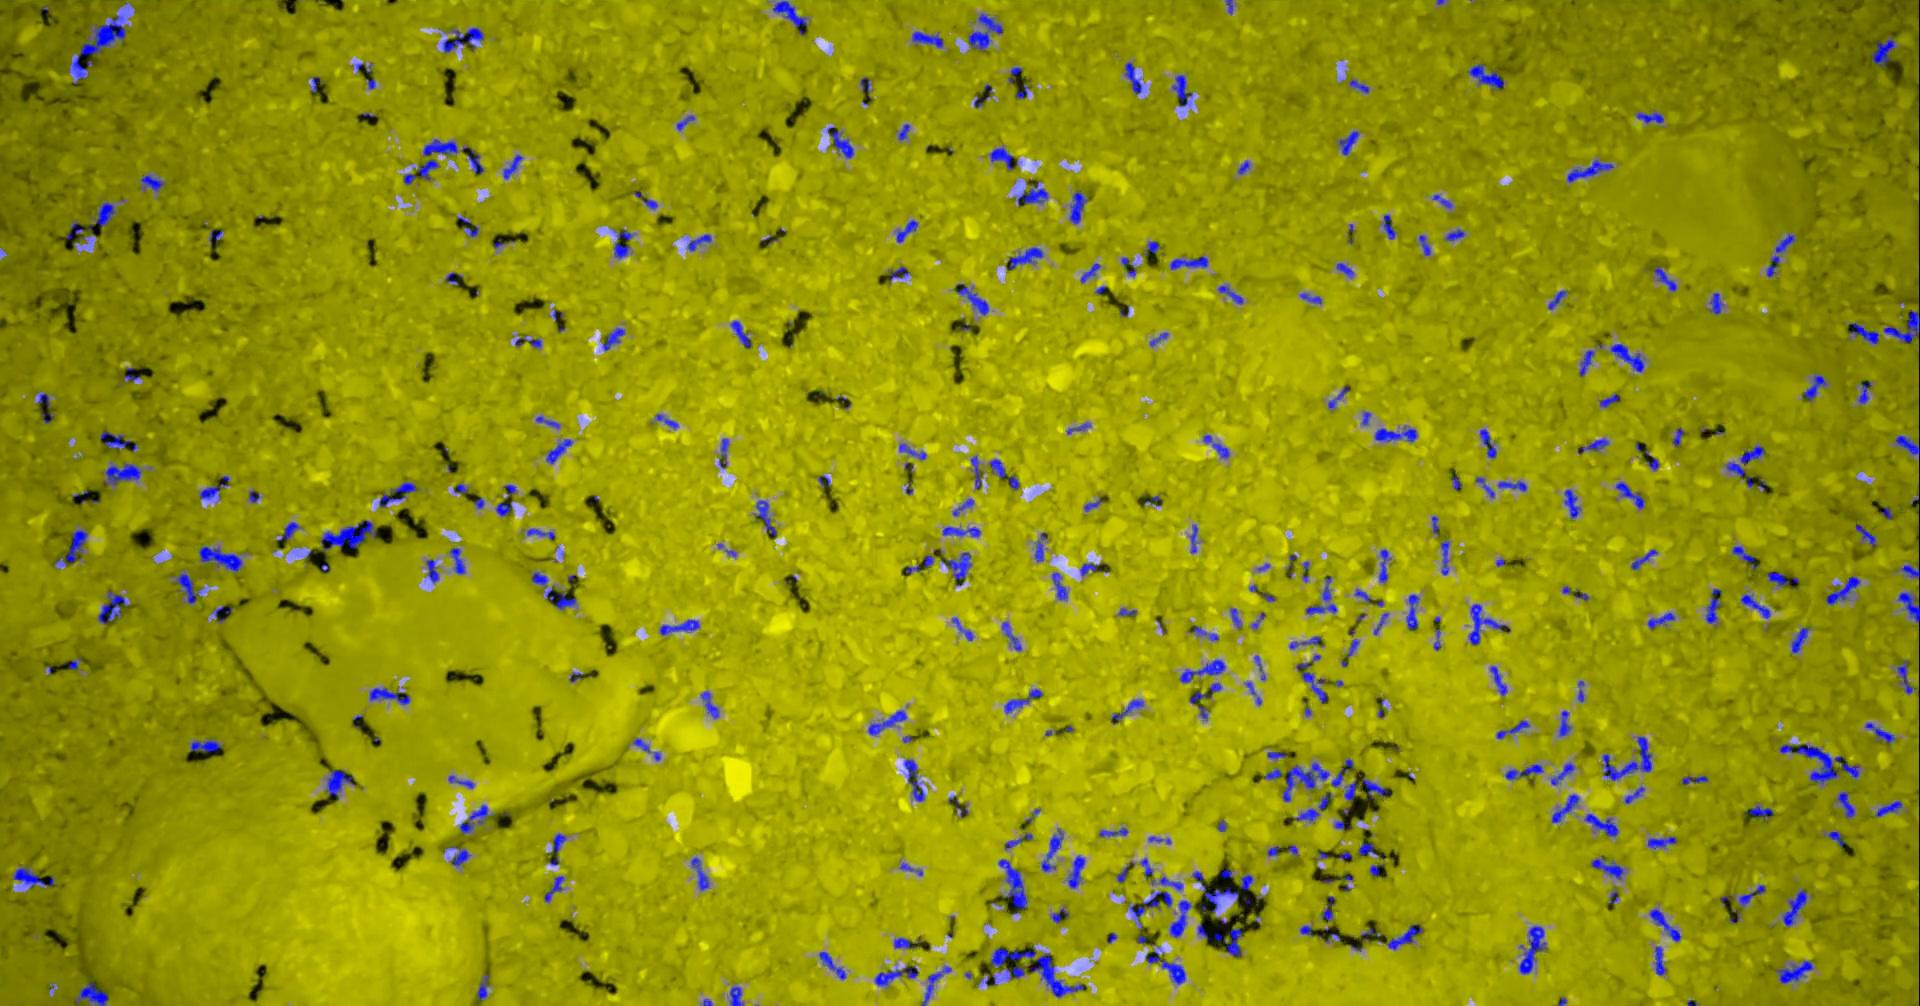ant: (1778, 743, 1858, 784), (1603, 735, 1651, 780), (422, 138, 483, 173), (1192, 870, 1238, 912), (1283, 762, 1328, 801), (320, 520, 375, 551), (1468, 603, 1510, 644), (997, 859, 1027, 913), (1297, 654, 1326, 702), (1517, 925, 1545, 973), (1128, 890, 1171, 921), (1145, 951, 1185, 984), (1724, 445, 1765, 476), (968, 13, 1002, 50), (53, 528, 88, 565), (1766, 232, 1796, 276), (772, 0, 806, 34), (1305, 575, 1336, 614), (198, 545, 241, 572), (1291, 791, 1331, 821), (1883, 310, 1919, 342), (921, 967, 950, 1005), (1566, 159, 1613, 182), (1178, 659, 1225, 682), (442, 27, 484, 52), (940, 553, 971, 586), (97, 589, 128, 622), (1648, 908, 1680, 941), (954, 283, 988, 314), (1825, 575, 1860, 605), (378, 481, 417, 507), (867, 710, 905, 735), (1385, 923, 1423, 949), (1610, 343, 1643, 372), (458, 804, 491, 833), (1467, 64, 1503, 89), (1782, 889, 1807, 926), (988, 459, 1018, 489), (1004, 688, 1043, 713), (903, 760, 924, 801), (403, 159, 438, 184), (326, 768, 356, 799), (1041, 828, 1062, 871), (11, 866, 53, 887), (827, 126, 853, 158), (1550, 793, 1578, 822), (1777, 960, 1812, 983), (1015, 180, 1048, 205), (103, 462, 140, 484), (1008, 246, 1043, 269), (1583, 813, 1618, 836), (1615, 481, 1644, 508), (99, 431, 137, 451), (874, 967, 917, 984), (1870, 36, 1895, 67), (1111, 699, 1143, 723), (1357, 777, 1390, 800), (75, 982, 108, 1005), (1170, 901, 1190, 937), (818, 951, 844, 979), (1740, 594, 1770, 619), (1591, 856, 1623, 879), (199, 475, 229, 499), (756, 500, 776, 535), (175, 572, 197, 603), (1801, 373, 1826, 400), (545, 438, 571, 464), (1189, 682, 1222, 702), (546, 586, 575, 608), (1374, 426, 1417, 441), (1897, 592, 1919, 622), (1864, 721, 1895, 743), (370, 687, 409, 704), (1171, 74, 1191, 105), (1848, 323, 1879, 343), (1203, 434, 1229, 459), (1330, 758, 1352, 786), (690, 857, 709, 890), (1732, 545, 1757, 569), (1123, 61, 1142, 93), (632, 738, 660, 760), (659, 619, 698, 634), (1001, 621, 1021, 650), (1069, 191, 1087, 224), (1896, 661, 1914, 694), (1496, 720, 1529, 738), (1067, 855, 1084, 888), (1653, 265, 1676, 291), (1503, 763, 1542, 779), (613, 229, 632, 258), (989, 147, 1013, 170), (1895, 434, 1919, 457), (1550, 762, 1575, 785), (910, 30, 943, 47), (730, 320, 750, 347), (1630, 549, 1657, 569), (543, 875, 564, 902), (1738, 884, 1765, 904), (1705, 588, 1721, 622), (602, 326, 623, 351), (1490, 666, 1507, 695), (1479, 428, 1496, 459), (549, 833, 565, 864), (905, 555, 933, 573), (951, 617, 973, 640), (897, 218, 917, 243), (1338, 130, 1357, 155), (95, 201, 114, 226), (1170, 257, 1208, 269), (1217, 285, 1242, 304), (1766, 570, 1798, 586), (1790, 627, 1810, 653), (1224, 927, 1241, 956), (700, 691, 717, 718), (456, 215, 477, 236), (1327, 386, 1349, 408), (1577, 438, 1608, 453), (1647, 612, 1675, 629), (503, 154, 522, 178), (1836, 791, 1854, 817), (1564, 489, 1580, 518), (1855, 523, 1876, 545), (634, 191, 657, 210), (276, 521, 298, 540), (1406, 594, 1418, 629), (687, 234, 711, 251), (1051, 572, 1067, 600), (190, 738, 221, 752), (1004, 833, 1032, 848), (1378, 549, 1390, 582), (949, 795, 968, 817), (1034, 532, 1048, 561), (1743, 805, 1773, 819), (898, 443, 924, 459), (450, 547, 465, 574), (1874, 800, 1901, 815), (1197, 923, 1222, 940), (970, 455, 982, 489), (1079, 263, 1100, 282), (1547, 290, 1567, 309), (942, 526, 980, 536), (1192, 625, 1218, 640), (140, 174, 163, 191), (1578, 349, 1592, 376), (1562, 586, 1589, 600), (1140, 857, 1154, 884), (1647, 836, 1676, 848), (1476, 478, 1495, 497), (1289, 636, 1321, 648), (451, 848, 470, 868), (66, 218, 84, 239), (952, 498, 973, 516), (1321, 895, 1335, 920), (1624, 786, 1644, 803), (1497, 480, 1526, 492), (1655, 946, 1666, 976), (1383, 213, 1396, 239), (1636, 112, 1663, 123), (1857, 380, 1870, 403), (1159, 876, 1182, 890), (1440, 539, 1449, 574), (657, 413, 677, 428), (535, 415, 559, 428), (448, 775, 472, 788), (1709, 292, 1723, 314), (717, 438, 728, 467), (1098, 826, 1128, 836), (889, 265, 908, 281), (425, 559, 438, 582), (1558, 710, 1570, 735), (1349, 77, 1369, 91), (1599, 392, 1619, 406), (526, 528, 554, 539), (476, 974, 488, 998), (514, 337, 541, 347), (893, 937, 919, 948), (676, 116, 695, 130), (1079, 561, 1098, 575), (729, 986, 743, 1005), (1827, 831, 1844, 846), (1189, 525, 1197, 553), (1901, 563, 1919, 577), (1050, 908, 1068, 922), (1418, 234, 1430, 255), (1299, 292, 1321, 304), (1065, 423, 1090, 433), (1432, 194, 1451, 207), (1343, 781, 1356, 800), (495, 500, 510, 516), (1229, 607, 1241, 627), (1336, 262, 1352, 276), (123, 367, 140, 381), (531, 572, 547, 586), (444, 272, 462, 285), (1681, 775, 1707, 784), (1357, 842, 1375, 855), (1116, 864, 1129, 882), (860, 77, 870, 99), (1445, 229, 1464, 240), (1008, 66, 1021, 83), (1239, 874, 1252, 890), (1145, 241, 1161, 254), (898, 123, 909, 140), (1672, 428, 1683, 446), (1263, 768, 1281, 779), (1369, 864, 1382, 876), (248, 489, 259, 503), (1267, 751, 1285, 758)
